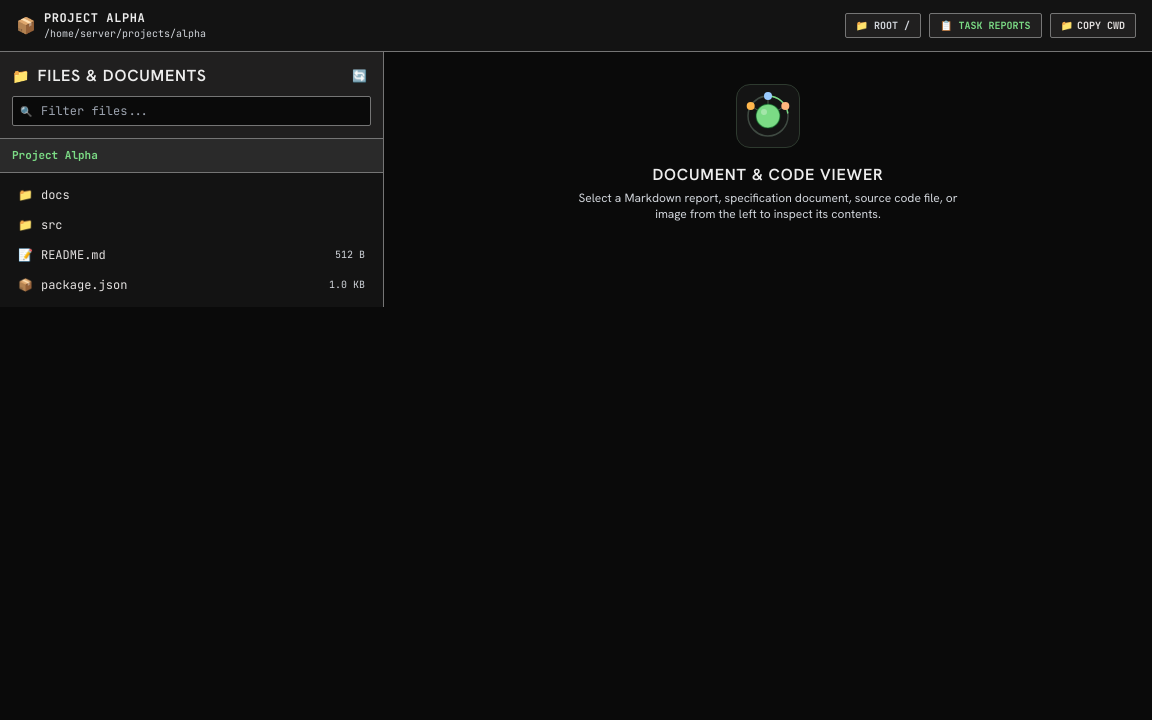
Test: ProjectExplorer Component › shows the button with a file selected and opens the modal with the file path
Click the text "README.md".
click(73, 254)  # box [41,246,106,262]
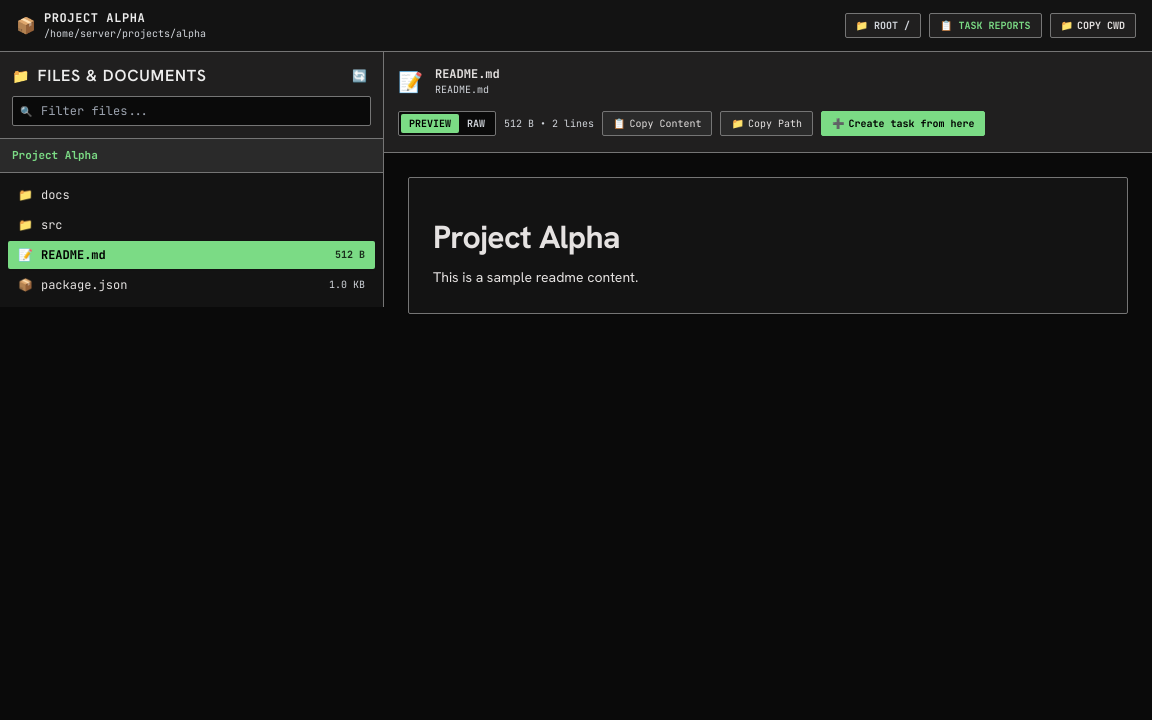
Now the button "➕ Create task from here" is shown
Click the button "➕ Create task from here".
click(903, 124)  # box [821,111,985,136]
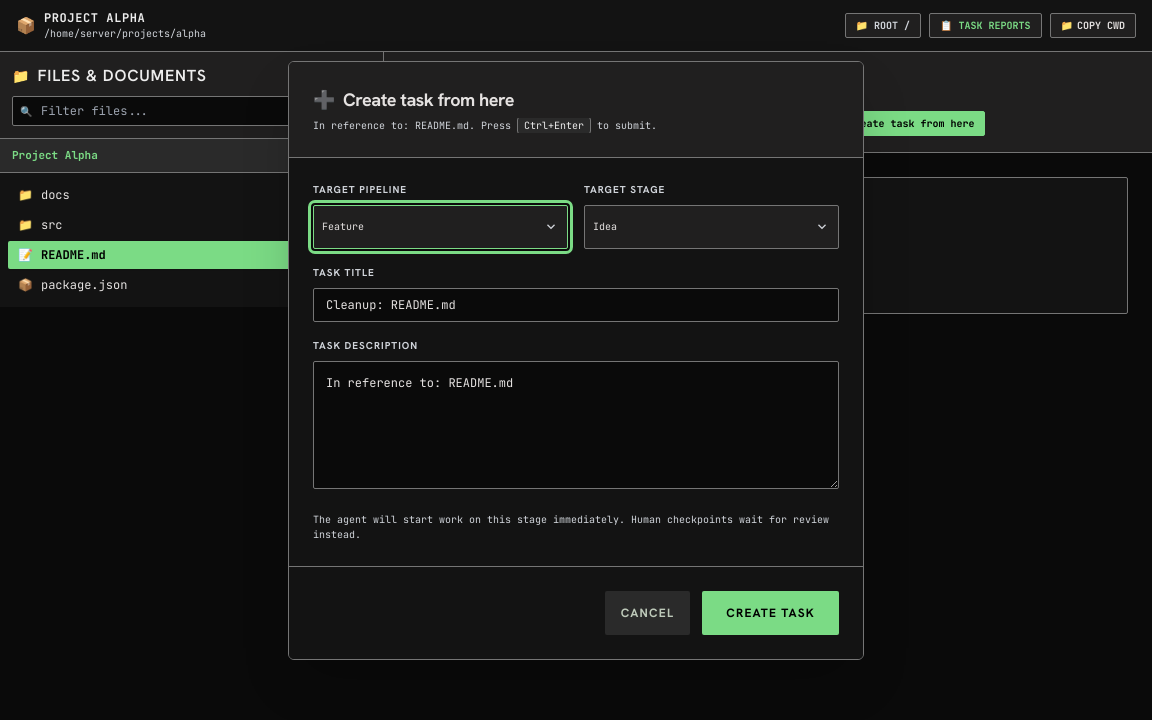
Now the heading "➕ Create task from here" is shown, box [313,88,514,110]
